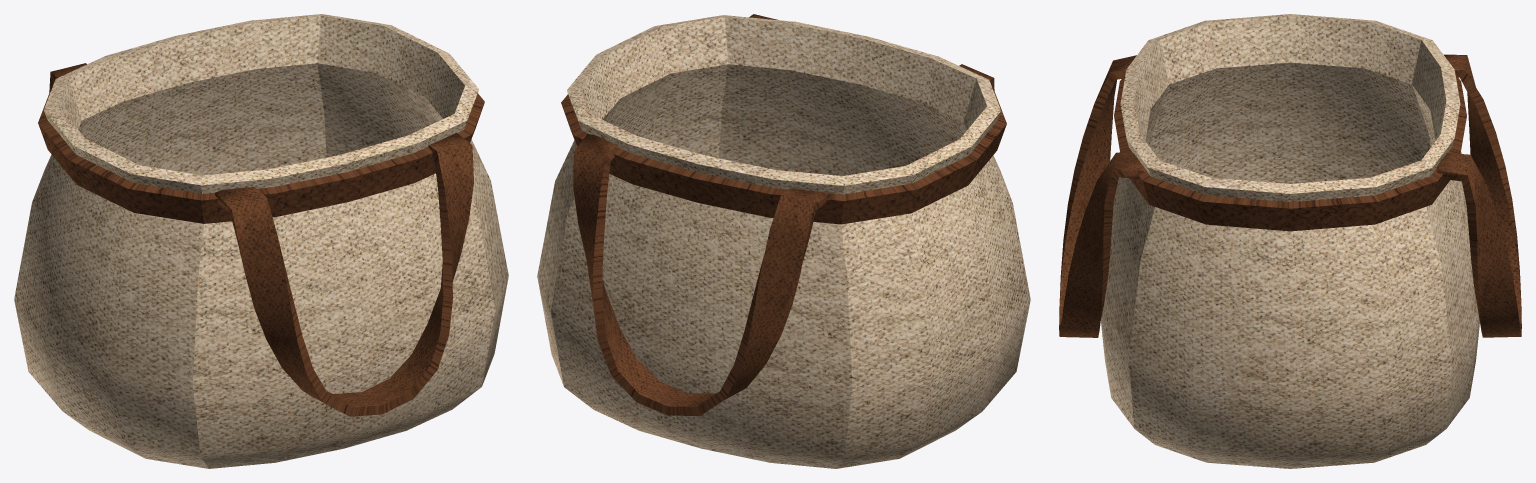
The model's file is bao com.fbx.
3 views of the same model, side by side, from view 1: azimuth 30°, elevation 25°; view 2: azimuth 150°, elevation 25°; view 3: azimuth 270°, elevation 25° (orthographic). The views are drawn at different scales.
Parts seen in each view (by area): view 1: Circle, Plane, Circle.001; view 2: Circle, Plane.001, Circle.001; view 3: Circle, Plane.001, Plane, Circle.001.
Boxes of the visible parts, left/top/right/bottom form: Circle: left=14, top=14, right=508, bottom=468; Plane: left=215, top=133, right=473, bottom=416; Circle.001: left=38, top=90, right=484, bottom=223; Circle: left=537, top=15, right=1030, bottom=468; Plane.001: left=573, top=134, right=832, bottom=415; Circle.001: left=561, top=91, right=1006, bottom=224; Circle: left=1101, top=14, right=1479, bottom=468; Plane.001: left=1437, top=54, right=1521, bottom=337; Plane: left=1059, top=55, right=1146, bottom=337; Circle.001: left=1114, top=75, right=1466, bottom=231.
Bounding box in the file's own units: 39.96 × 27.52 × 38.24.
2 materials, 2 textured.
